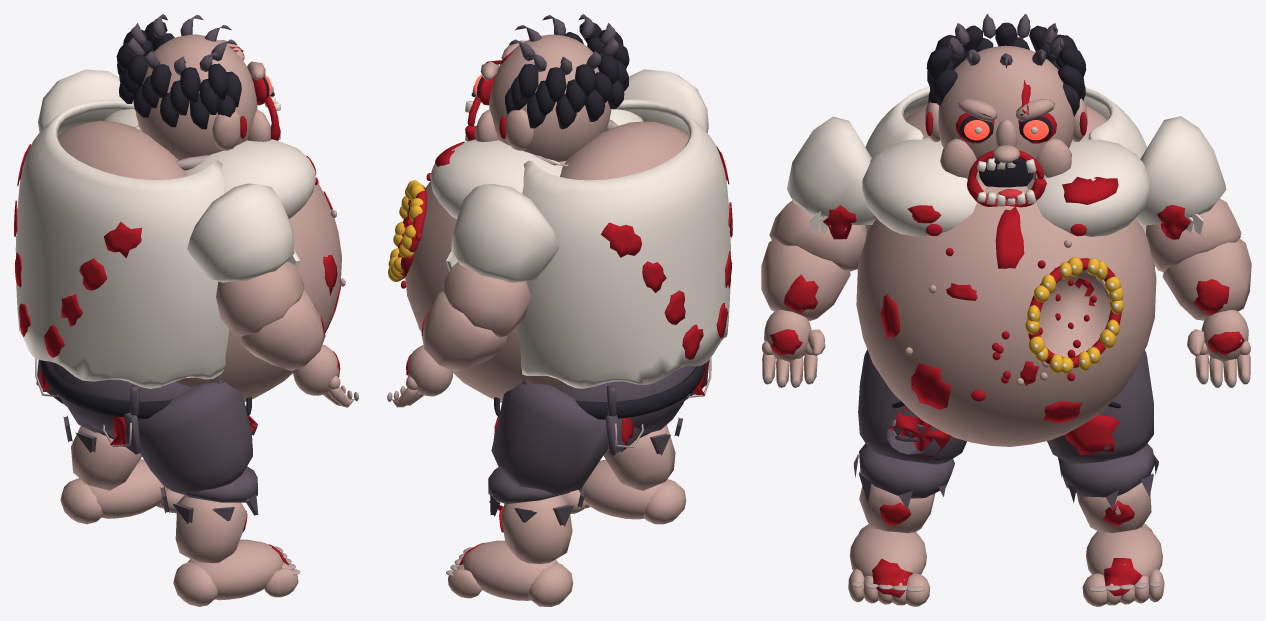
3 renders of one model, left to right at view 1: azimuth 30°, elevation 25°; view 2: azimuth 150°, elevation 25°; view 3: azimuth 270°, elevation 25°, orthographic. The views are drawn at different scales.
Visible parts, largest first — view 1: torso__surface, head__surface, armR__surface, legR__surface, footR__surface, shinR__surface, hip__surface, footL__surface, foreArmR__surface, shinL__surface, armL__surface, handR__surface (+1 smaller); view 2: torso__surface, head__surface, armL__surface, legL__surface, shinL__surface, footL__surface, hip__surface, footR__surface, foreArmL__surface, shinR__surface, armR__surface, handL__surface (+1 smaller); view 3: torso__surface, head__surface, armR__surface, armL__surface, shinL__surface, shinR__surface, legR__surface, footR__surface, footL__surface, legL__surface, foreArmL__surface, foreArmR__surface (+2 smaller).
Boxes of the visible parts, x1,y1,x2,y2 form: torso__surface: (14, 99, 345, 401); head__surface: (116, 14, 280, 160); armR__surface: (187, 183, 304, 336); legR__surface: (102, 382, 257, 495); footR__surface: (173, 539, 300, 606); shinR__surface: (160, 466, 258, 563); hip__surface: (40, 360, 224, 434); footL__surface: (60, 459, 184, 524); foreArmR__surface: (240, 290, 325, 370); shinL__surface: (63, 415, 141, 490); armL__surface: (38, 69, 122, 132); handR__surface: (293, 344, 358, 407); torso__surface: (388, 99, 732, 402); head__surface: (465, 14, 629, 161); armL__surface: (441, 184, 558, 337); legL__surface: (491, 383, 643, 495); shinL__surface: (488, 467, 585, 563); footL__surface: (446, 540, 573, 606); hip__surface: (522, 363, 705, 432); footR__surface: (561, 459, 686, 524); foreArmL__surface: (421, 290, 507, 371); shinR__surface: (603, 417, 682, 490); armR__surface: (623, 69, 708, 132); handL__surface: (387, 345, 453, 407); torso__surface: (856, 86, 1156, 446); head__surface: (925, 14, 1087, 207); armR__surface: (769, 116, 876, 271); armL__surface: (1136, 116, 1241, 272); shinL__surface: (1058, 443, 1158, 532); shinR__surface: (853, 443, 954, 533); legR__surface: (858, 349, 966, 464); footR__surface: (848, 524, 930, 606); footL__surface: (1082, 523, 1164, 606); legL__surface: (1047, 350, 1153, 464); foreArmL__surface: (1162, 238, 1251, 320); foreArmR__surface: (761, 238, 850, 321).
Size of what is drawn, in the model's own units: 0.9498 by 1.57 by 1.27.
